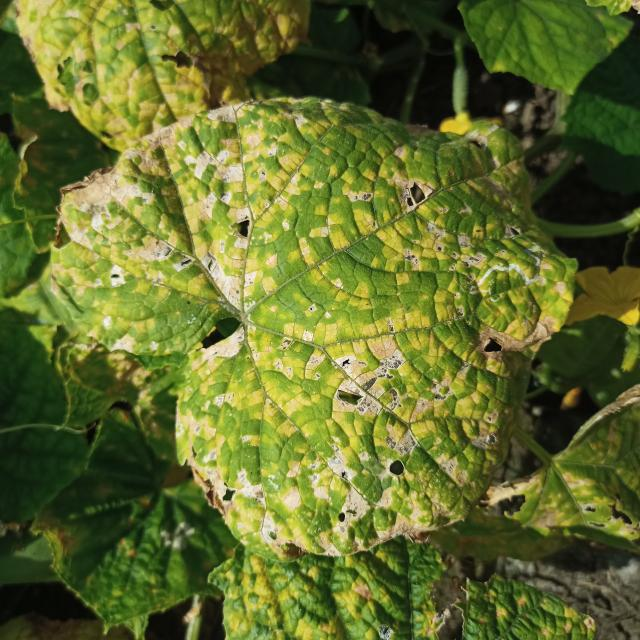disease_cucumber: (61, 97, 579, 533), (17, 0, 313, 137)
